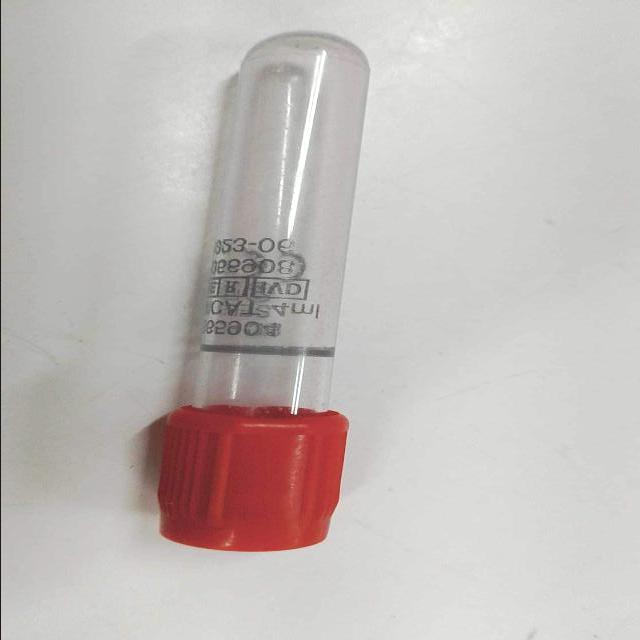Sharps: (156, 32, 372, 554)
